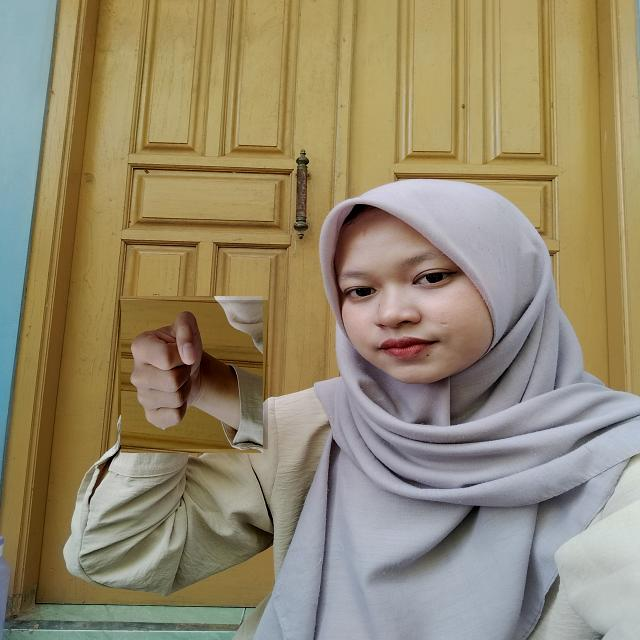baik: (118, 300, 268, 449)
